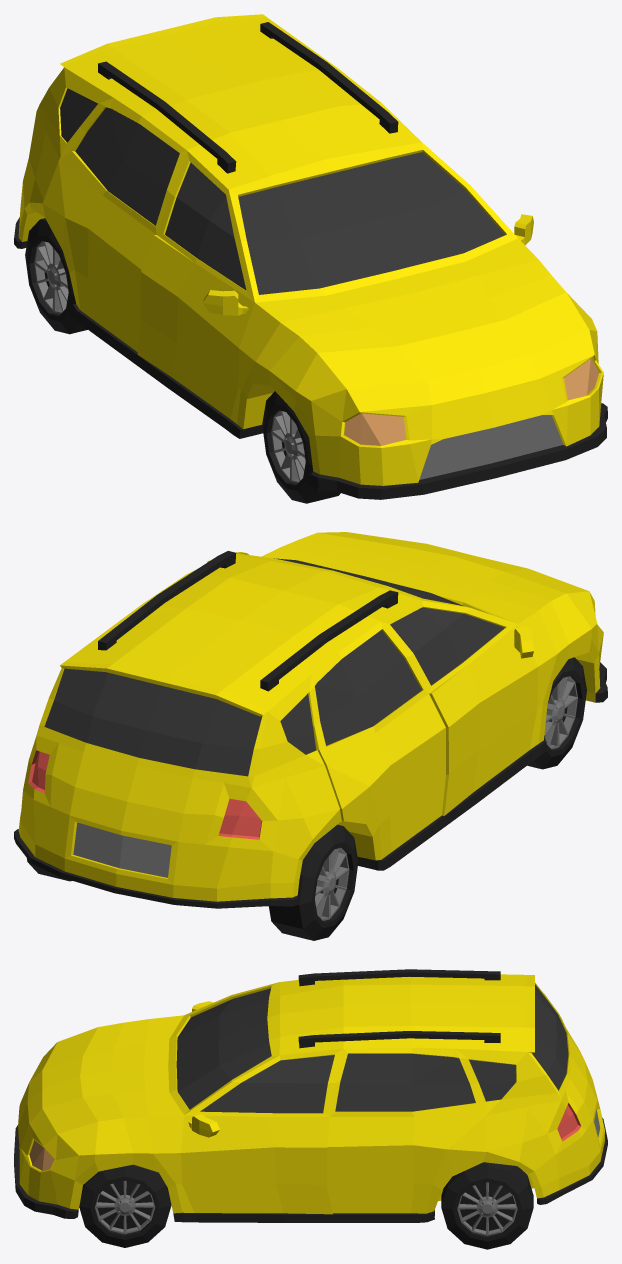
Rendered from SUV.glb.
3 renders of one model, top to bottom at view 1: azimuth 30°, elevation 25°; view 2: azimuth 150°, elevation 25°; view 3: azimuth 270°, elevation 25°, orthographic. The views are drawn at different scales.
Parts seen in each view (by area): view 1: SUV, SUV_FrontRightWheel, SUV_BackWheels; view 2: SUV, SUV_BackWheels, SUV_FrontRightWheel; view 3: SUV, SUV_BackWheels, SUV_FrontLeftWheel.
Boxes of the visible parts, bbox=[...] form: SUV: bbox=[14, 14, 607, 499]; SUV_FrontRightWheel: bbox=[262, 391, 340, 503]; SUV_BackWheels: bbox=[25, 218, 87, 334]; SUV: bbox=[14, 532, 607, 908]; SUV_BackWheels: bbox=[27, 824, 358, 940]; SUV_FrontRightWheel: bbox=[527, 657, 586, 769]; SUV: bbox=[14, 969, 607, 1222]; SUV_BackWheels: bbox=[441, 1162, 533, 1249]; SUV_FrontLeftWheel: bbox=[79, 1164, 171, 1247].
Bounding box in the file's own units: 2.11 × 1.53 × 4.21.
